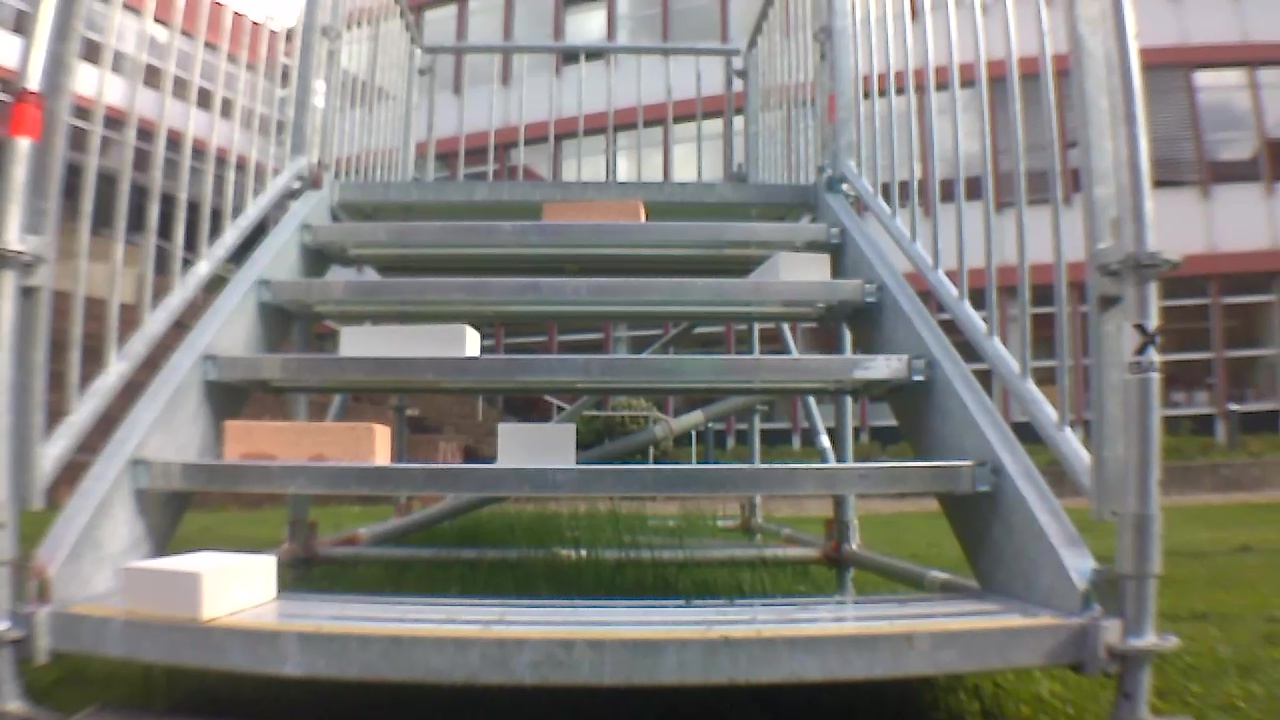brick: (114, 549, 285, 624), (215, 421, 395, 465), (341, 322, 481, 361), (483, 424, 578, 474), (750, 251, 834, 285), (534, 199, 647, 224)
edge: (41, 617, 1093, 667), (117, 460, 1004, 493), (202, 354, 931, 383), (253, 278, 890, 302), (335, 181, 824, 206), (299, 225, 846, 246)
stairs: (20, 0, 1143, 714)
steps: (35, 180, 1121, 673)
